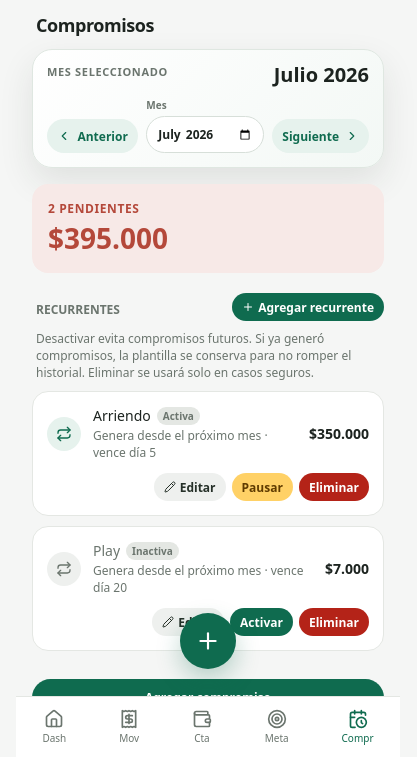
Test case: CommitmentsPage › toggles a recurrent template and refreshes templates without changing commitment flows
The image size is (417, 757).
Click the button with aria-label "Pausar Arriendo": (262, 487) [232,473,293,501]
(page scrolled)
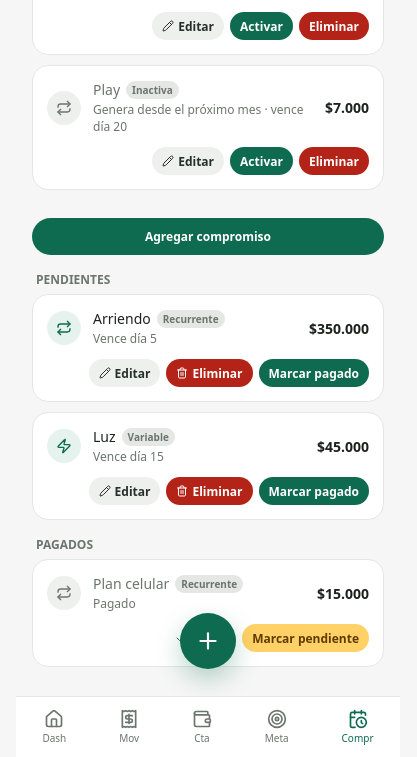
Expected: the button with aria-label "Marcar pagado Arriendo" is shown, [258,359,369,387]
Expected: the button with aria-label "Activar Arriendo" is shown, [230,12,293,40]
